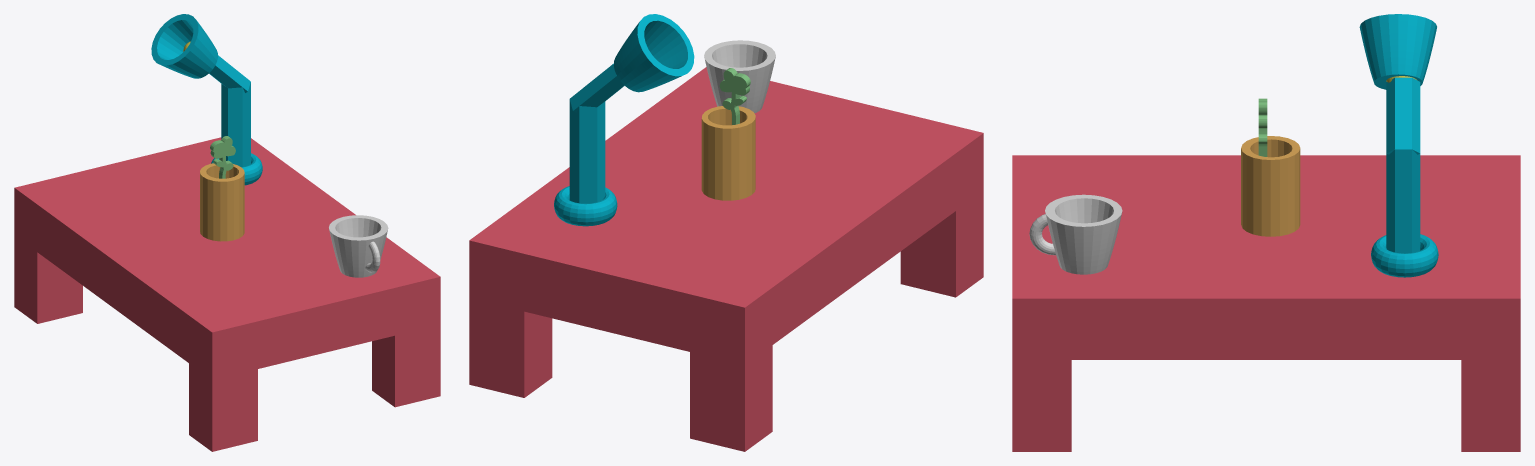
The model's file is Dazzling_Amur.glb.
The picture shows the model from 3 angles, left to right: view 1: azimuth 30°, elevation 25°; view 2: azimuth 150°, elevation 25°; view 3: azimuth 270°, elevation 25°; orthographic projection. The views are drawn at different scales.
Parts seen in each view (by area): view 1: Mesh_Mesh_head_geo.001_lambert2SG.001; view 2: Mesh_Mesh_head_geo.001_lambert2SG.001; view 3: Mesh_Mesh_head_geo.001_lambert2SG.001.
Boxes of the visible parts, left/top/right/bottom form: Mesh_Mesh_head_geo.001_lambert2SG.001: left=14, top=14, right=440, bottom=451; Mesh_Mesh_head_geo.001_lambert2SG.001: left=469, top=14, right=983, bottom=451; Mesh_Mesh_head_geo.001_lambert2SG.001: left=1012, top=14, right=1520, bottom=451.
Bounding box in the file's own units: 40 × 49.14 × 60.
